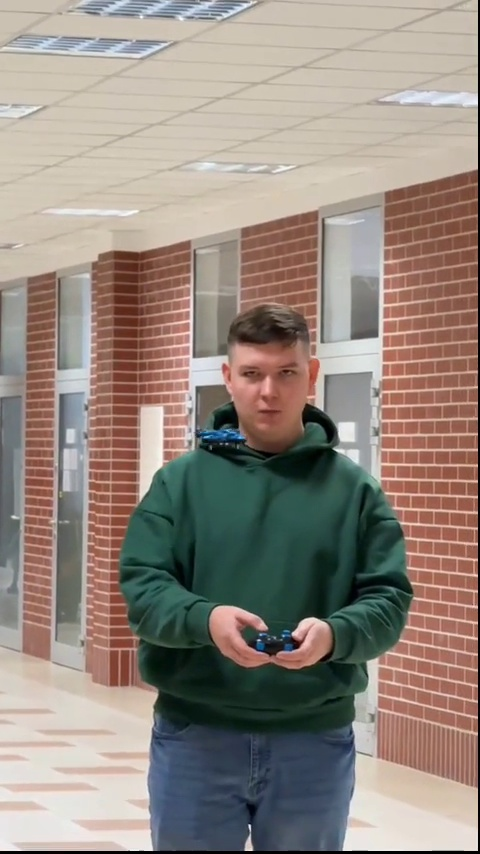drone: (194, 426, 245, 452)
no vest: (118, 305, 416, 854)
